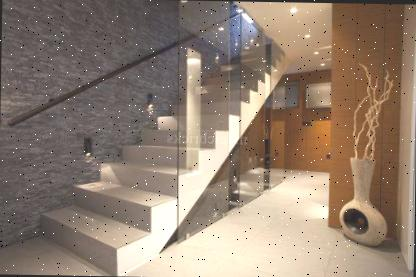stair: (46, 27, 286, 262)
